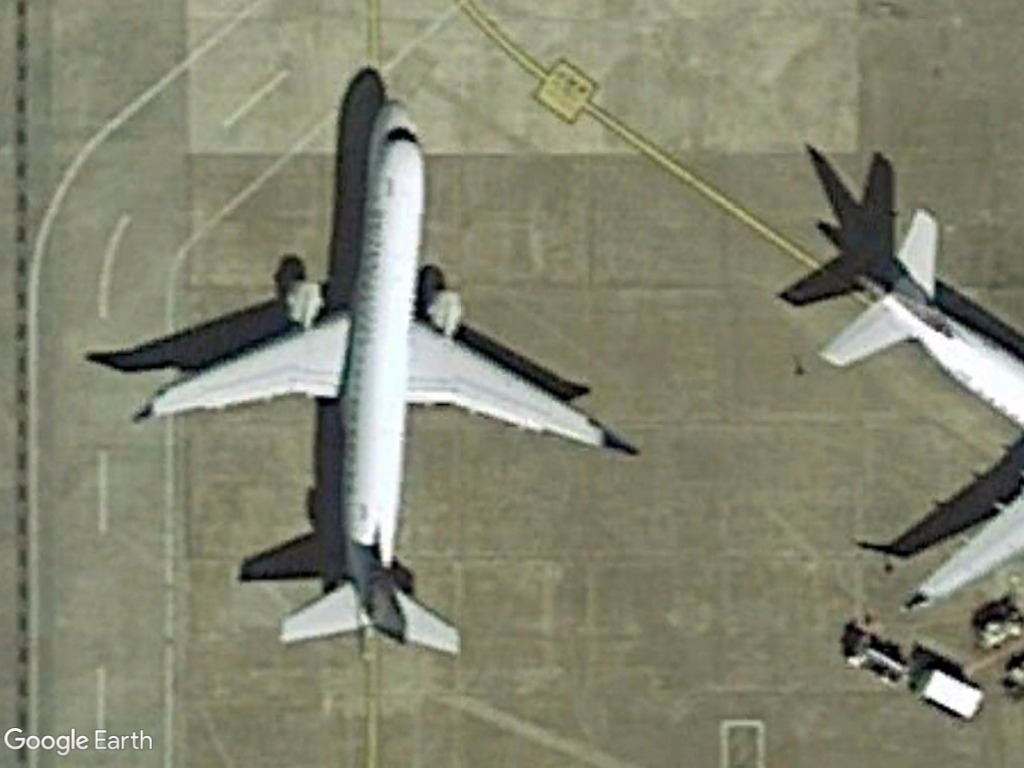airliner: (132, 99, 636, 666)
